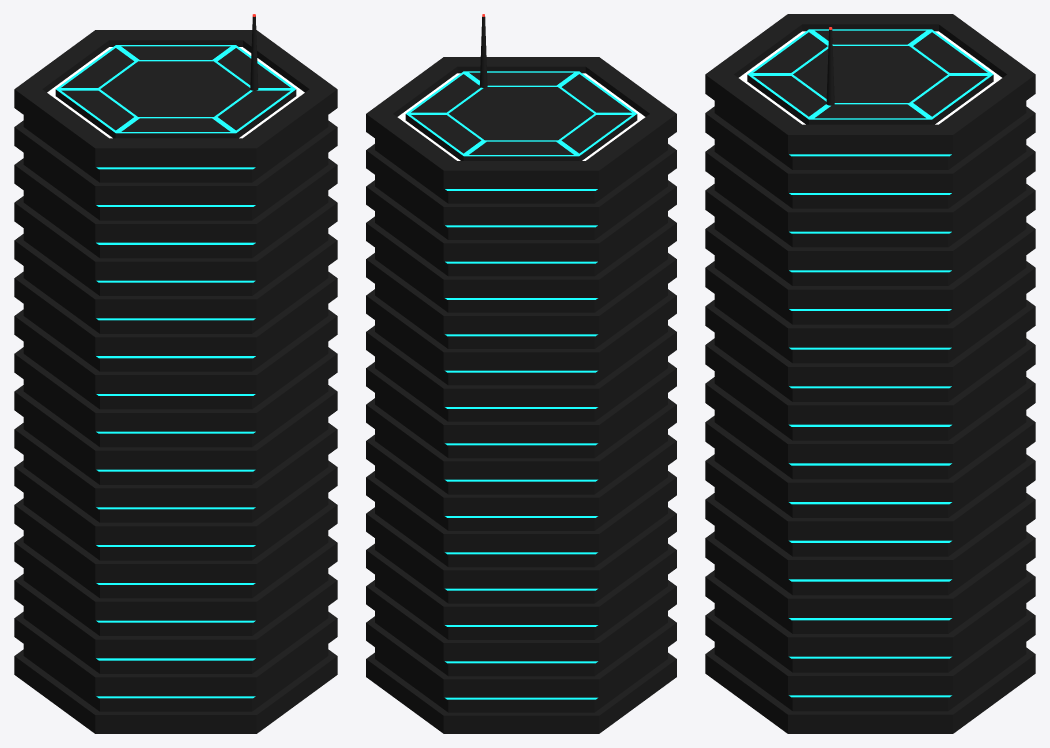
File: Palazzo_nonQuadrato_01.fbx
3 renders of one model, left to right at view 1: azimuth 30°, elevation 25°; view 2: azimuth 150°, elevation 25°; view 3: azimuth 270°, elevation 25°, orthographic. The views are drawn at different scales.
Visible parts, largest first — view 1: 01_Ed; view 2: 01_Ed; view 3: 01_Ed.
Boxes of the visible parts, <box> form: 01_Ed: <box>14,14,337,733</box>; 01_Ed: <box>366,14,676,733</box>; 01_Ed: <box>705,14,1035,733</box>.
Size of the model in its own units: 1.73 by 2 by 4.51.
